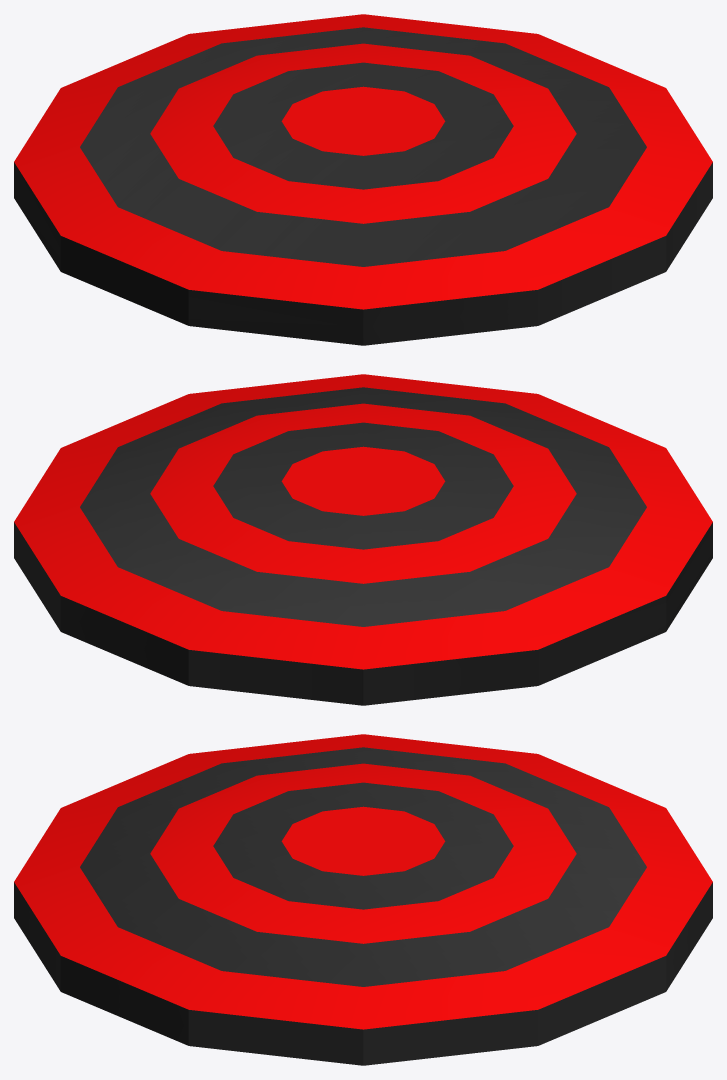
File: Msh_Target.FBX
3 views of the same model, one above another, from view 1: azimuth 30°, elevation 25°; view 2: azimuth 150°, elevation 25°; view 3: azimuth 270°, elevation 25° (orthographic).
Parts seen in each view (by area): view 1: Cylinder001; view 2: Cylinder001; view 3: Cylinder001.
Boxes of the visible parts, left/top/right/bottom form: Cylinder001: left=14, top=14, right=712, bottom=345; Cylinder001: left=14, top=374, right=712, bottom=705; Cylinder001: left=14, top=734, right=712, bottom=1065.
Bounding box in the file's own units: 18.6 × 18.6 × 3.44.
